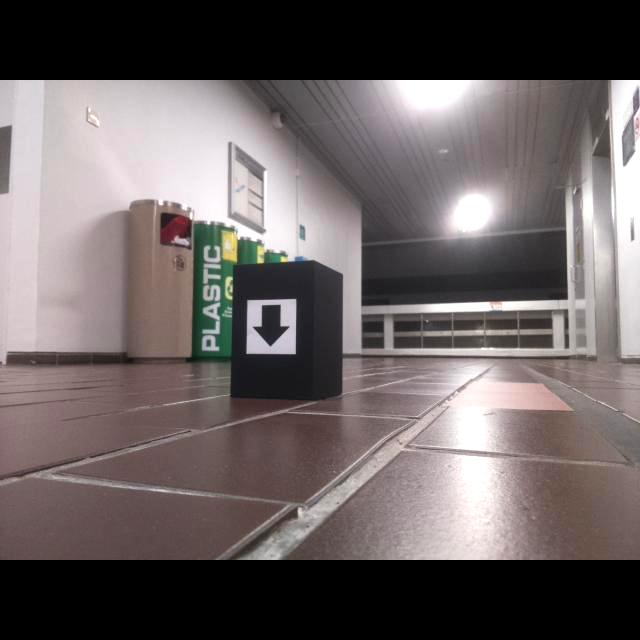DOWN: (251, 304, 290, 348)
